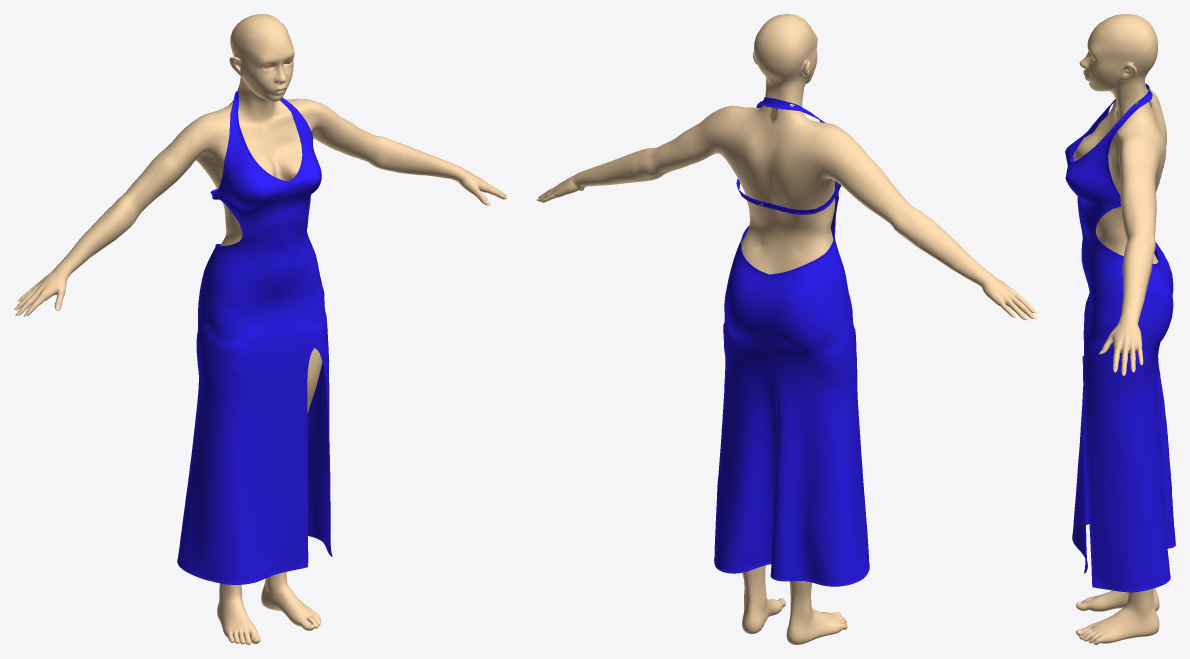
File: dress9.glb
3 renders of one model, left to right at view 1: azimuth 30°, elevation 25°; view 2: azimuth 150°, elevation 25°; view 3: azimuth 270°, elevation 25°, orthographic.
Parts seen in each view (by area): view 1: EveningDress, Body; view 2: EveningDress, Body; view 3: EveningDress, Body.
Part boxes in pixels (bbox=[...]): EveningDress: bbox=[177, 87, 332, 584]; Body: bbox=[16, 14, 506, 644]; EveningDress: bbox=[714, 97, 869, 586]; Body: bbox=[538, 14, 1033, 644]; EveningDress: bbox=[1065, 83, 1175, 592]; Body: bbox=[1073, 14, 1166, 644].
Size of the model in its own units: 1.58 by 1.85 by 0.306.
